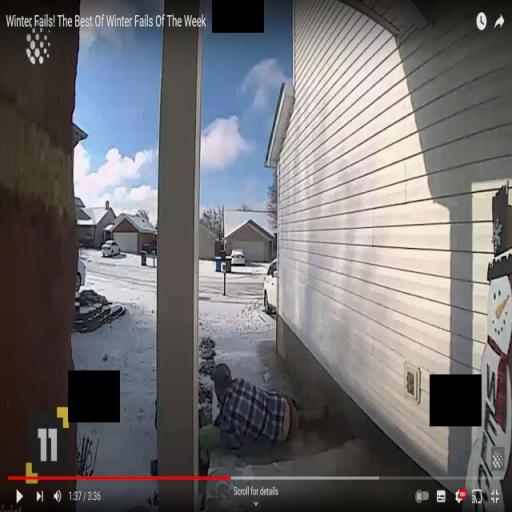Fall: (208, 356, 334, 459)
